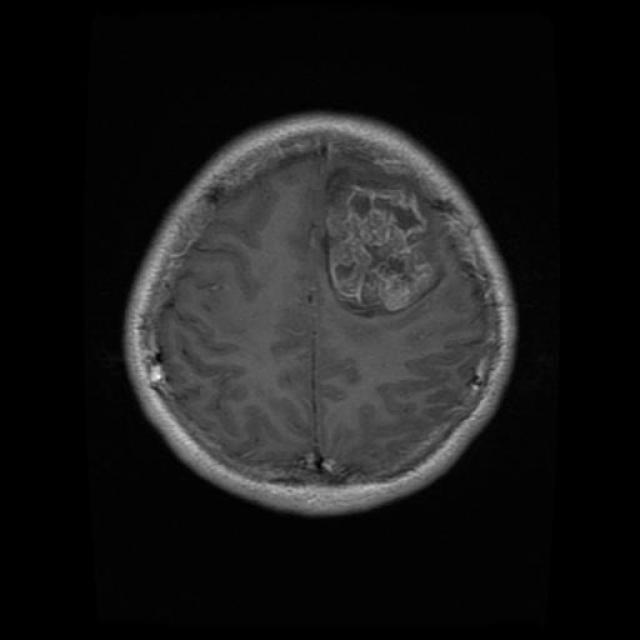Glioma: (326, 173, 465, 314)
